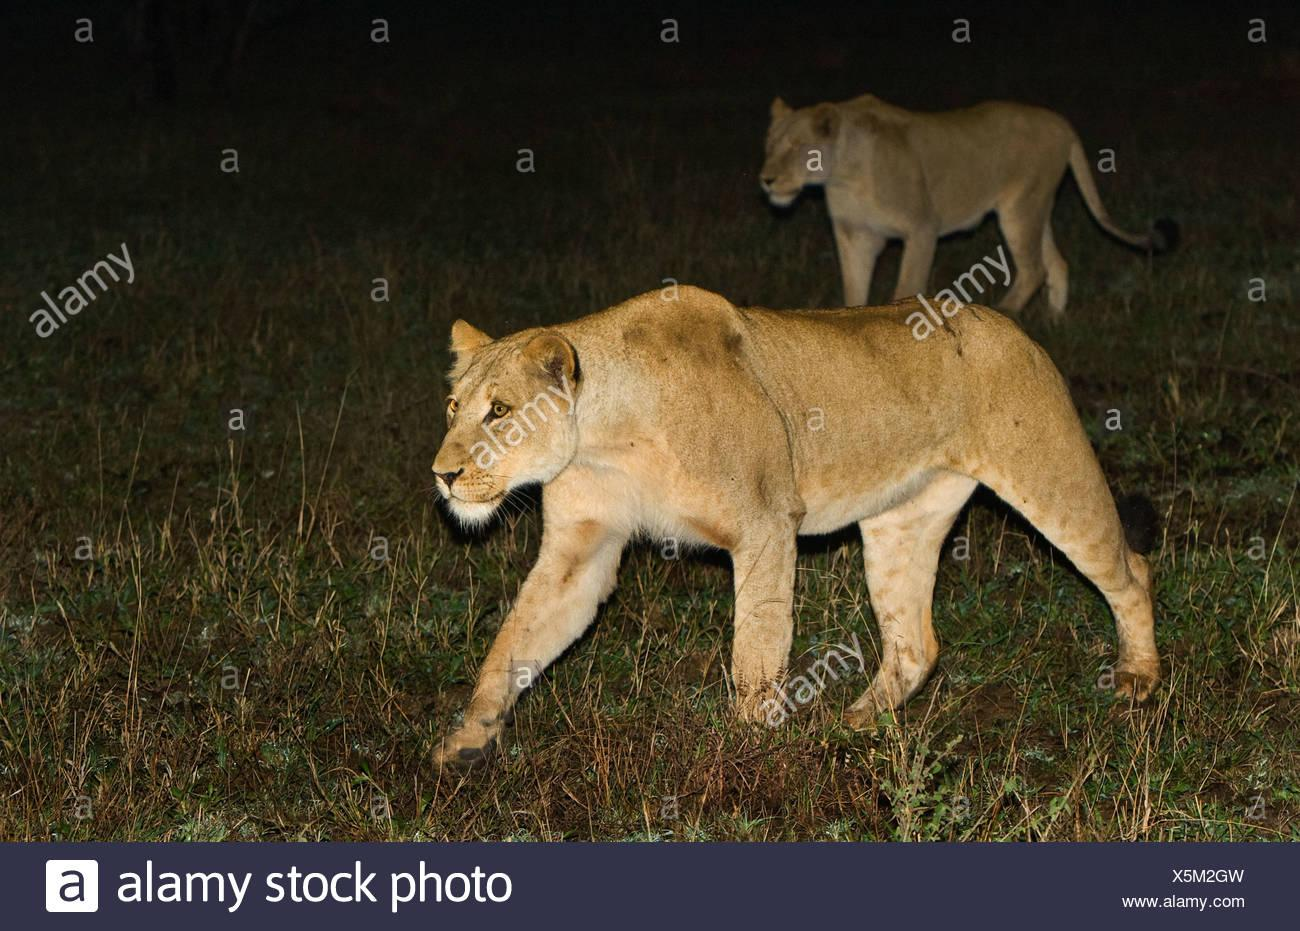lions: (320, 74, 1300, 739)
